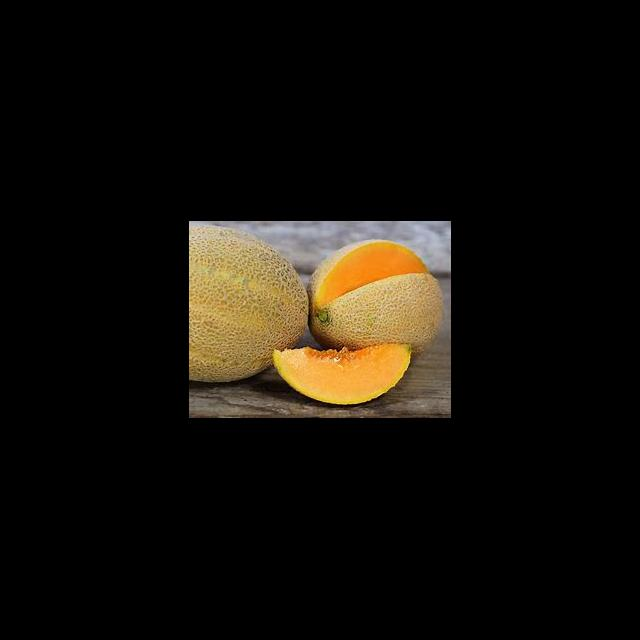Hami Melon: (189, 226, 309, 385), (311, 238, 445, 345), (272, 343, 412, 406)
